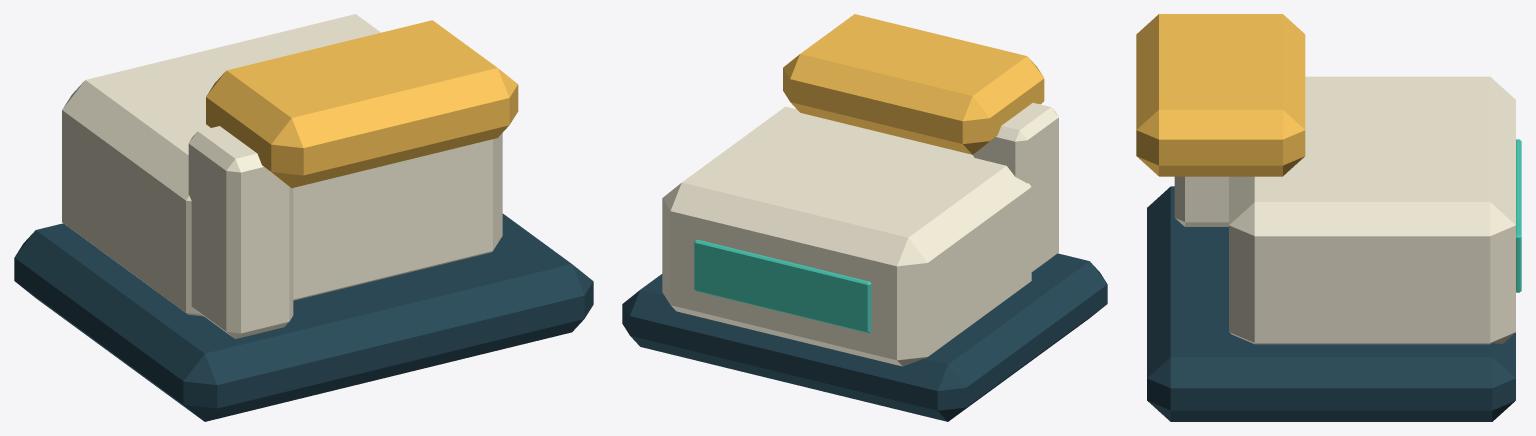
The model's file is equipment.glb.
The picture shows the model from 3 angles, left to right: view 1: azimuth 30°, elevation 25°; view 2: azimuth 150°, elevation 25°; view 3: azimuth 270°, elevation 25°; orthographic projection. The views are drawn at different scales.
Visible parts, largest first — view 1: StaticHull, AnimatedHardware; view 2: StaticHull, AnimatedHardware; view 3: StaticHull, AnimatedHardware.
Part boxes in pixels (bbox=[...]): StaticHull: bbox=[14, 14, 593, 421]; AnimatedHardware: bbox=[206, 20, 518, 188]; StaticHull: bbox=[622, 102, 1107, 421]; AnimatedHardware: bbox=[783, 14, 1044, 154]; StaticHull: bbox=[1147, 76, 1521, 421]; AnimatedHardware: bbox=[1136, 14, 1305, 176].
Size of the model in its own units: 4.4 by 2.96 by 3.76.
